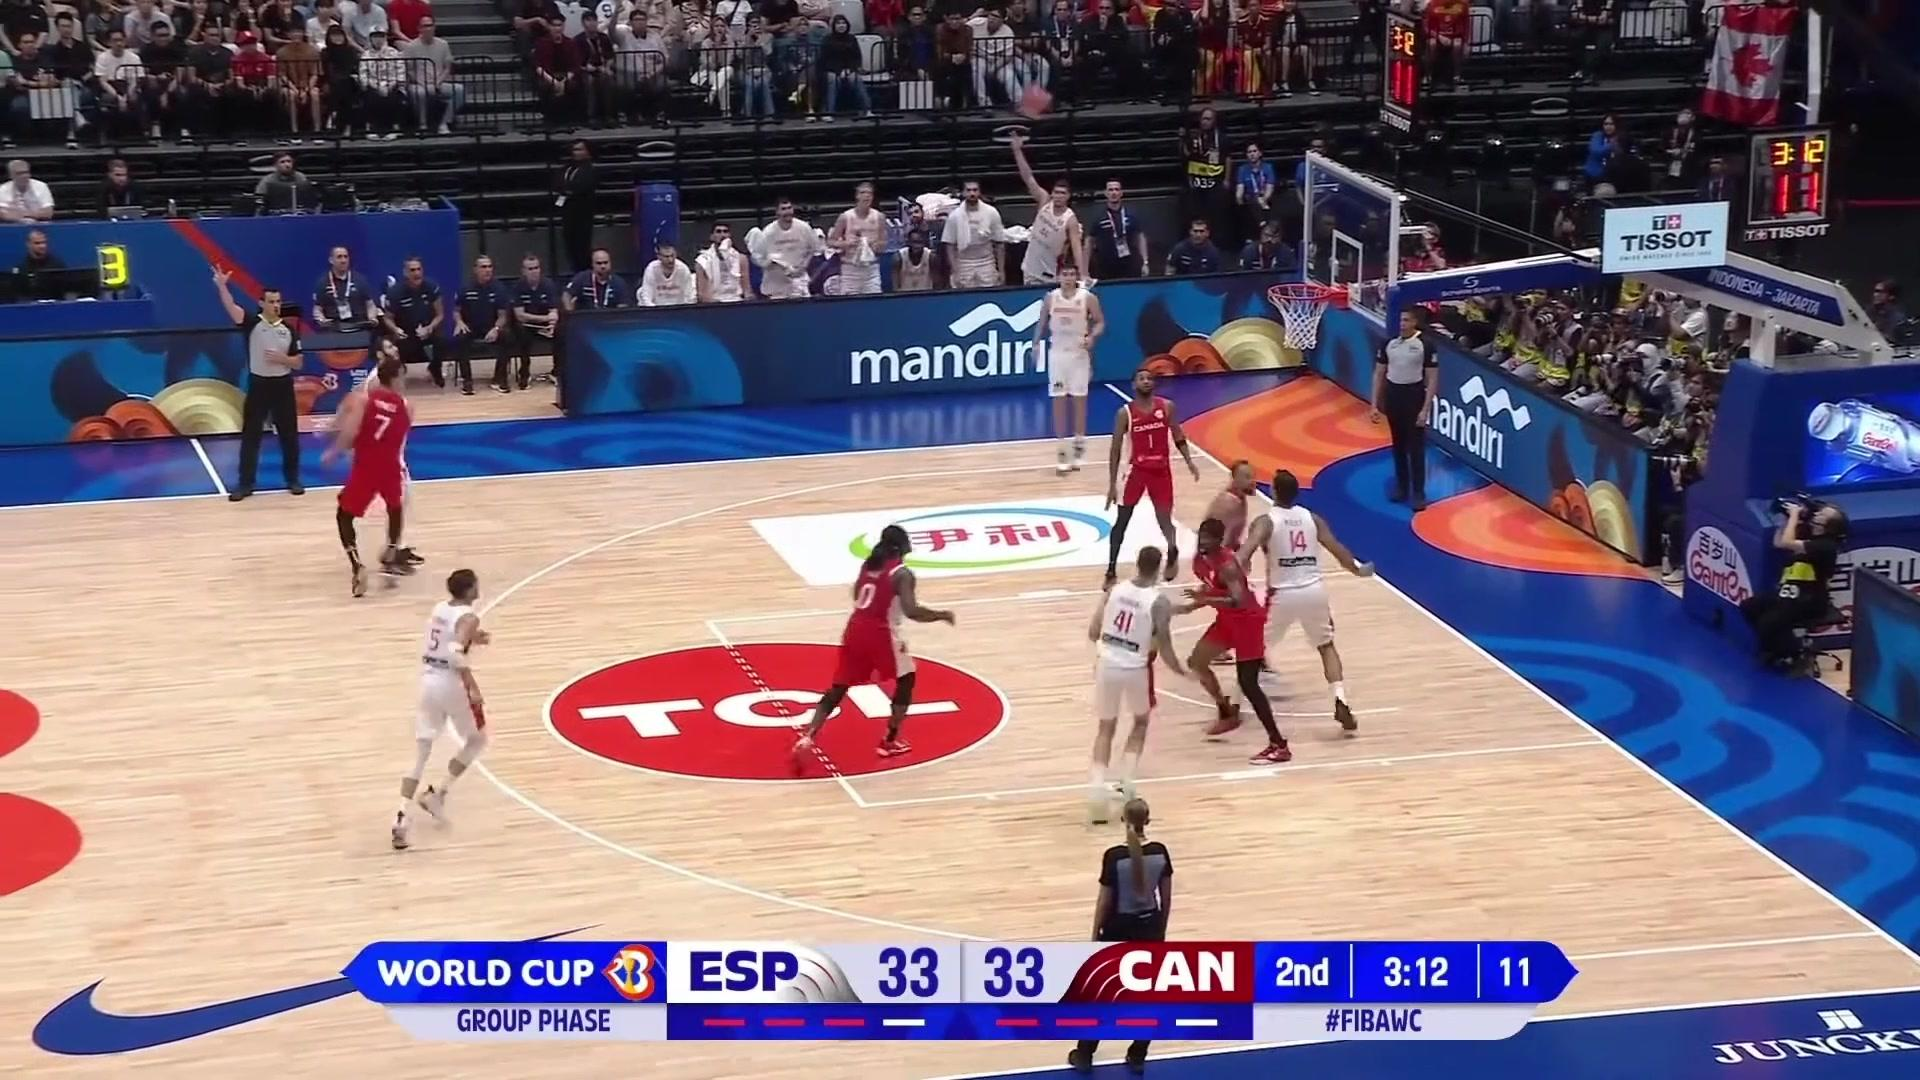foul: (287, 335, 443, 588)
